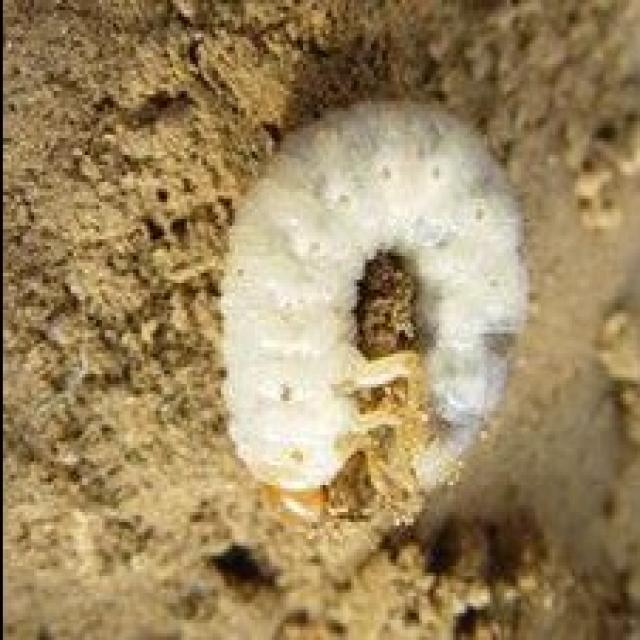grub: (229, 87, 532, 494)
